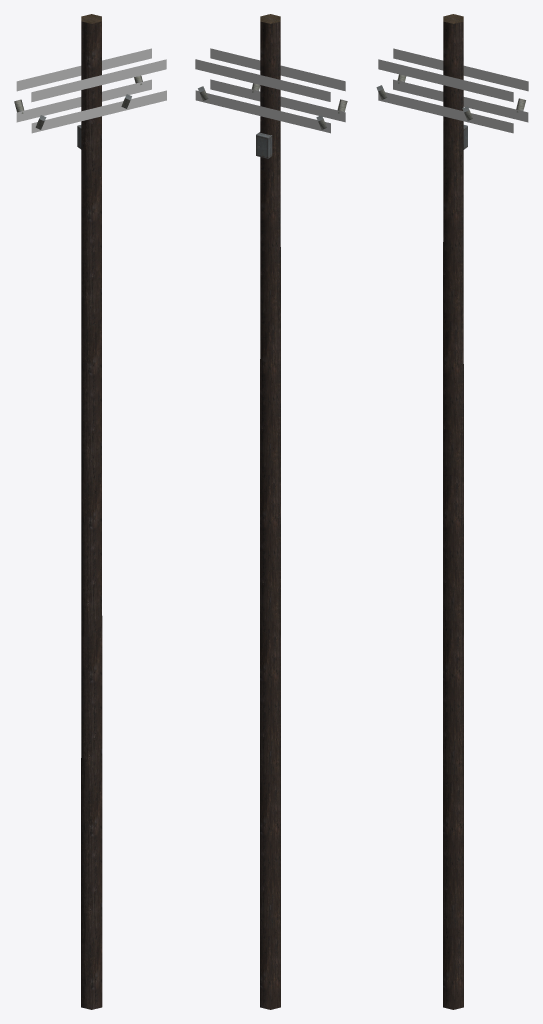
File: prop_telegraph_01b.obj
3 renders of one model, left to right at view 1: azimuth 30°, elevation 25°; view 2: azimuth 150°, elevation 25°; view 3: azimuth 330°, elevation 25°, orthographic.
Bounding box in the file's own units: 2.17 × 15.05 × 0.7764.
